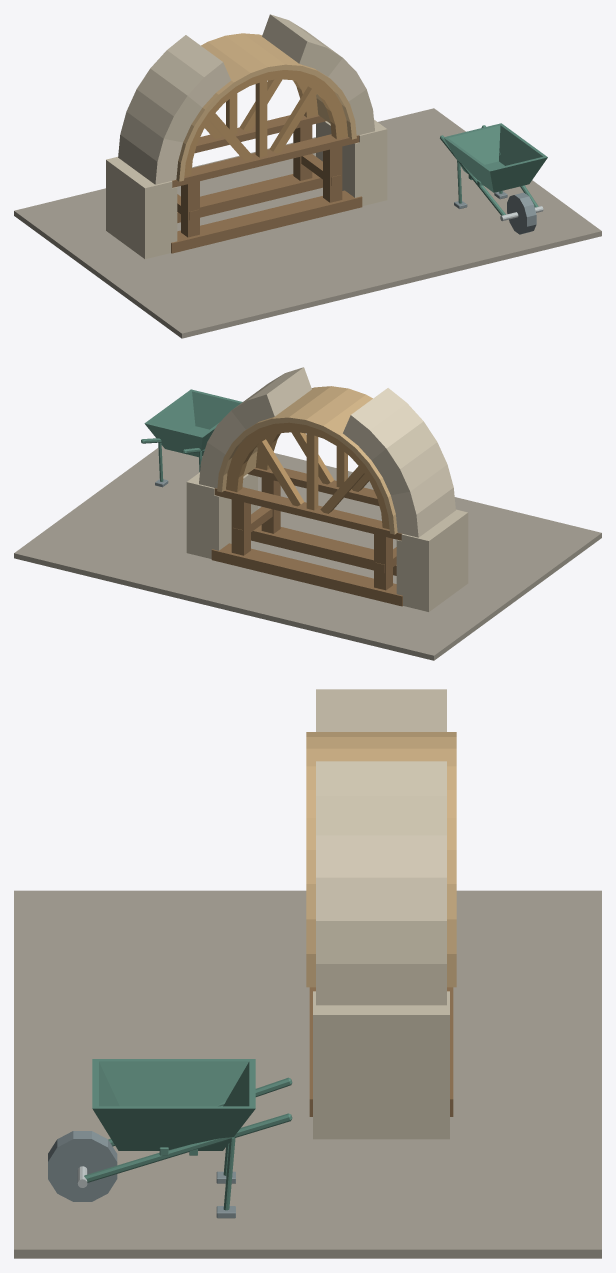
The picture shows the model from 3 angles, top to bottom: view 1: azimuth 30°, elevation 25°; view 2: azimuth 150°, elevation 25°; view 3: azimuth 270°, elevation 25°; orthographic projection. The views are drawn at different scales.
Parts seen in each view (by area): view 1: SceneOnlyGround, Barrow__construction-wheelbarrow-01, SceneOnlyLeftNotchedAbutment, ArchForm__WholeBarrelFormDeck, ArchForm__FrontWholeGroundSole, SceneOnlyRightNotchedAbutment, SceneOnlyRisingArchBlock_5, SceneOnlyRisingArchBlock_4, SceneOnlyRisingArchBlock_6, ArchForm__RearWholeGroundSole, ArchForm__FrontWholeCurvedRib, ArchForm__FrontSpringingCrossbeam (+12 smaller); view 2: SceneOnlyGround, SceneOnlyLeftNotchedAbutment, ArchForm__WholeBarrelFormDeck, Barrow__construction-wheelbarrow-01, ArchForm__RearWholeGroundSole, SceneOnlyRightNotchedAbutment, SceneOnlyRisingArchBlock_5, SceneOnlyRisingArchBlock_4, SceneOnlyRisingArchBlock_6, ArchForm__FrontWholeGroundSole, ArchForm__RearWholeCurvedRib, ArchForm__RearSpringingCrossbeam (+13 smaller); view 3: SceneOnlyGround, Barrow__construction-wheelbarrow-01, SceneOnlyRightNotchedAbutment, SceneOnlyRisingArchBlock_2, SceneOnlyRisingArchBlock_1, SceneOnlyRisingArchBlock_3, ArchForm__WholeBarrelFormDeck, SceneOnlyRisingArchBlock_4.
Boxes of the visible parts, x1=… form: SceneOnlyGround: x1=14, y1=108, x2=601, y2=338; Barrow__construction-wheelbarrow-01: x1=440, y1=123, x2=547, y2=234; SceneOnlyLeftNotchedAbutment: x1=106, y1=156, x2=177, y2=259; ArchForm__WholeBarrelFormDeck: x1=176, y1=33, x2=356, y2=181; ArchForm__FrontWholeGroundSole: x1=171, y1=190, x2=362, y2=253; SceneOnlyRightNotchedAbutment: x1=316, y1=119, x2=387, y2=206; SceneOnlyRisingArchBlock_5: x1=126, y1=68, x2=202, y2=142; SceneOnlyRisingArchBlock_4: x1=150, y1=35, x2=230, y2=107; SceneOnlyRisingArchBlock_6: x1=118, y1=111, x2=182, y2=184; ArchForm__RearWholeGroundSole: x1=177, y1=172, x2=322, y2=222; ArchForm__FrontWholeCurvedRib: x1=184, y1=70, x2=347, y2=176; ArchForm__FrontSpringingCrossbeam: x1=172, y1=134, x2=359, y2=187; SceneOnlyGround: x1=14, y1=445, x2=601, y2=660; SceneOnlyLeftNotchedAbutment: x1=396, y1=509, x2=468, y2=611; ArchForm__WholeBarrelFormDeck: x1=217, y1=386, x2=397, y2=534; Barrow__construction-wheelbarrow-01: x1=141, y1=389, x2=242, y2=487; ArchForm__RearWholeGroundSole: x1=211, y1=543, x2=402, y2=606; SceneOnlyRightNotchedAbutment: x1=186, y1=472, x2=257, y2=558; SceneOnlyRisingArchBlock_5: x1=371, y1=421, x2=447, y2=495; SceneOnlyRisingArchBlock_4: x1=343, y1=388, x2=423, y2=460; SceneOnlyRisingArchBlock_6: x1=391, y1=464, x2=455, y2=537; ArchForm__FrontWholeGroundSole: x1=251, y1=525, x2=396, y2=575; ArchForm__RearWholeCurvedRib: x1=226, y1=422, x2=389, y2=529; ArchForm__RearSpringingCrossbeam: x1=214, y1=487, x2=401, y2=540; SceneOnlyGround: x1=14, y1=890, x2=601, y2=1258; Barrow__construction-wheelbarrow-01: x1=48, y1=1059, x2=292, y2=1218; SceneOnlyRightNotchedAbutment: x1=313, y1=991, x2=449, y2=1139; SceneOnlyRisingArchBlock_2: x1=316, y1=835, x2=446, y2=920; SceneOnlyRisingArchBlock_1: x1=316, y1=921, x2=446, y2=1005; SceneOnlyRisingArchBlock_3: x1=316, y1=761, x2=446, y2=835; ArchForm__WholeBarrelFormDeck: x1=306, y1=732, x2=456, y2=987; SceneOnlyRisingArchBlock_4: x1=316, y1=689, x2=446, y2=731.
Size of the model in its own units: 5.2 by 2.16 by 3.6.
